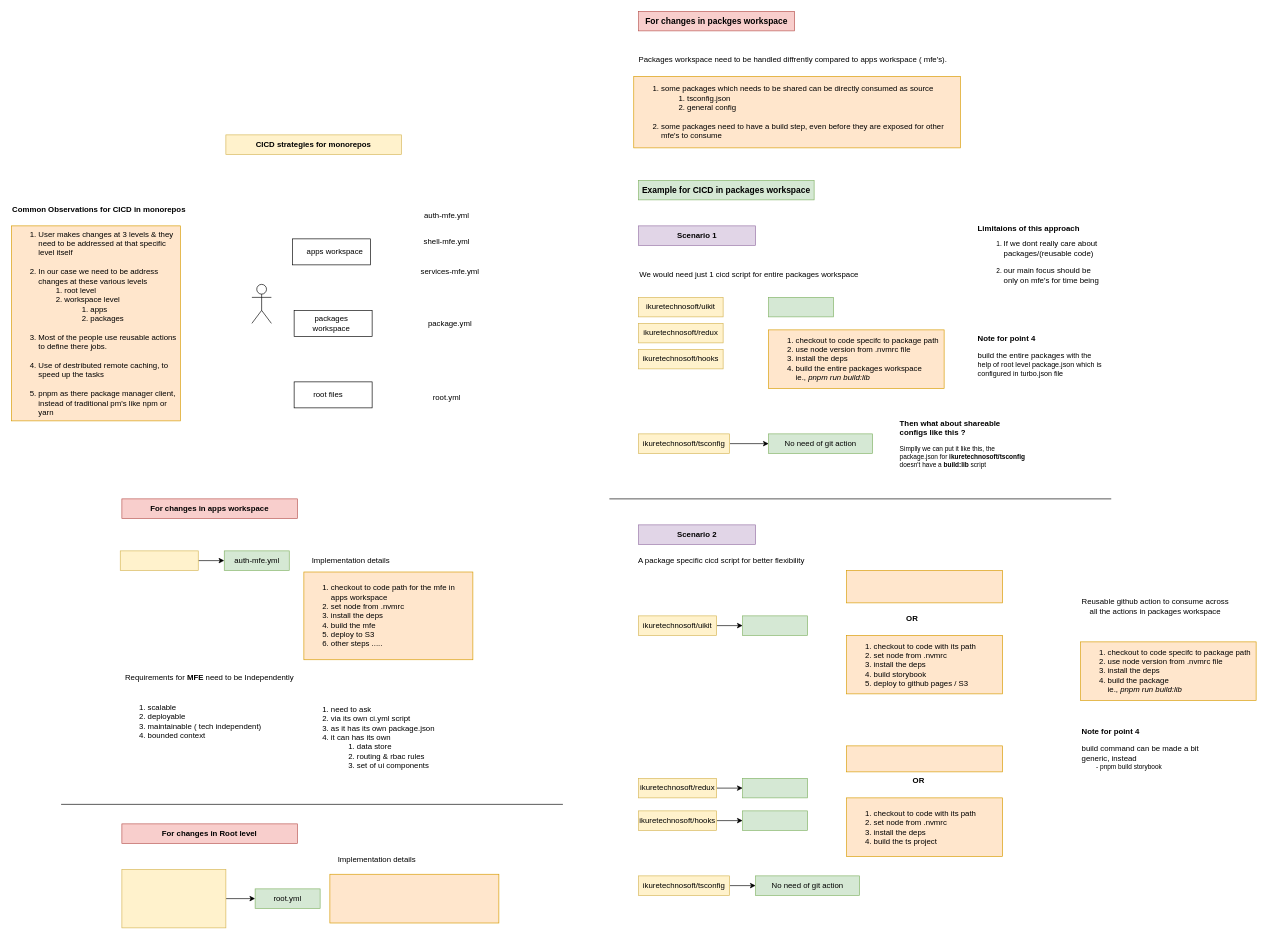
The diagram is 1268 pixels wide and 941 high, and some of its shapes have lost their labels. The centre of each missing label's shape, as x and y in pixels:
Actor: pixel 261 303
auth-mfe: pixel 159 560
checkout to code at repo level set node from .nvmrc install the deps: pixel 414 898
hooks.yml: pixel 775 820
packages.yml: pixel 801 307
Readme.md changes to all the files & folders plop etc: pixel 173 898
redux.yml: pixel 775 788
uikit.yml: pixel 775 625
use the custom install action: pixel 924 758
use the custom install action deploy to github pages / S3: pixel 924 586
